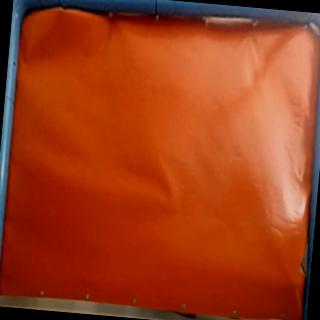Hit-hRxx: (283, 272, 304, 292)
